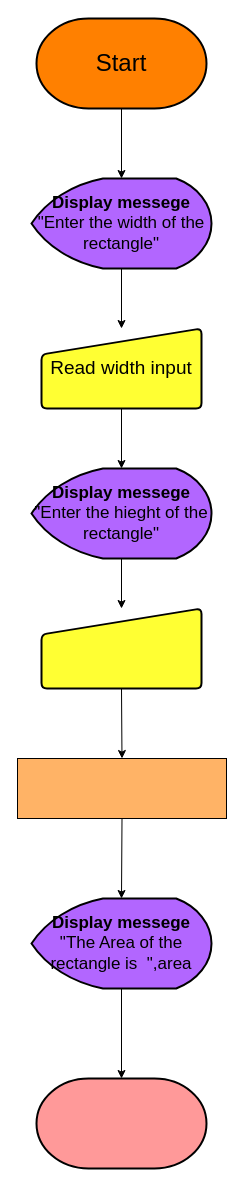
The diagram is 244 pixels wide and 1186 high, and some of its shapes have lost their labels. Each missing label, with the centre of its shape:
"calculate area : area = width * height" goes at [121,788].
"End" goes at [121,1123].
"Read hieght input" goes at [121,648].
